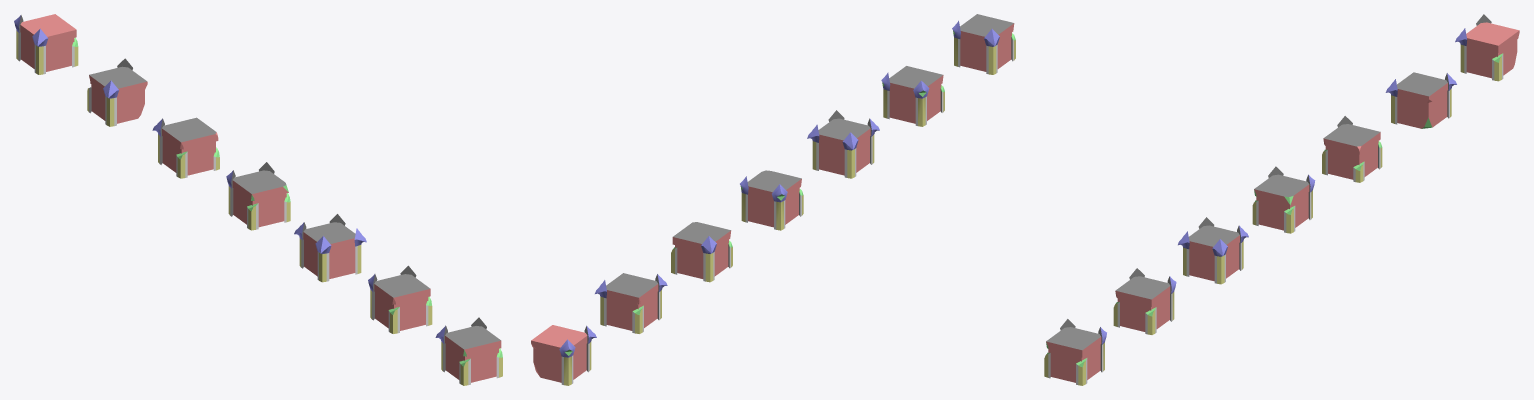
Rendered from SSQ_BRoom01_pillar01.gltf.
3 views of the same model, side by side, from view 1: azimuth 30°, elevation 25°; view 2: azimuth 150°, elevation 25°; view 3: azimuth 330°, elevation 25° (orthographic). The views are drawn at different scales.
Parts seen in each view (by area): view 1: SSQ_BRoom01_pillar01; view 2: SSQ_BRoom01_pillar01; view 3: SSQ_BRoom01_pillar01.
Boxes of the visible parts, x1=… form: SSQ_BRoom01_pillar01: x1=14, y1=14, x2=502, y2=385; SSQ_BRoom01_pillar01: x1=531, y1=14, x2=1015, y2=385; SSQ_BRoom01_pillar01: x1=1044, y1=14, x2=1519, y2=385.
Size of the model in its own units: 0.9692 by 0.8923 by 16.25.
